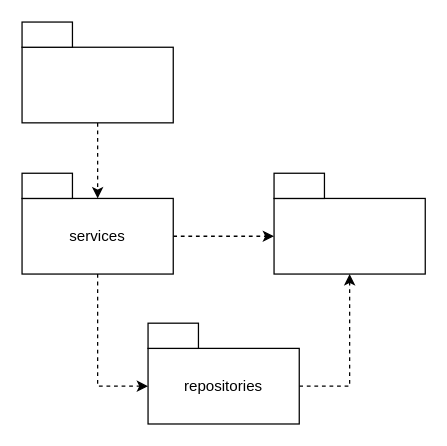
This 447x446 diagram has some shape labels left out. The shapes that lost their labels are listed below. From the top down, each one's centre as x and y in pixels, then its label:
At point (97, 84): "ui".
At point (349, 235): "entities".
